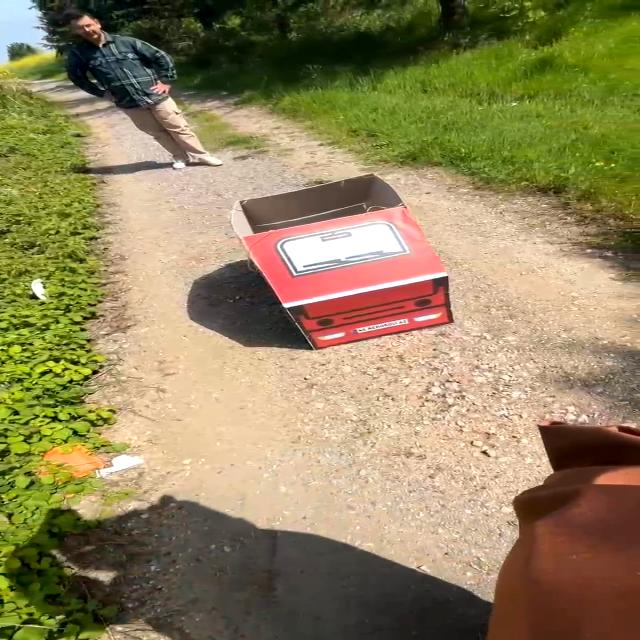red_car: (215, 170, 499, 354)
